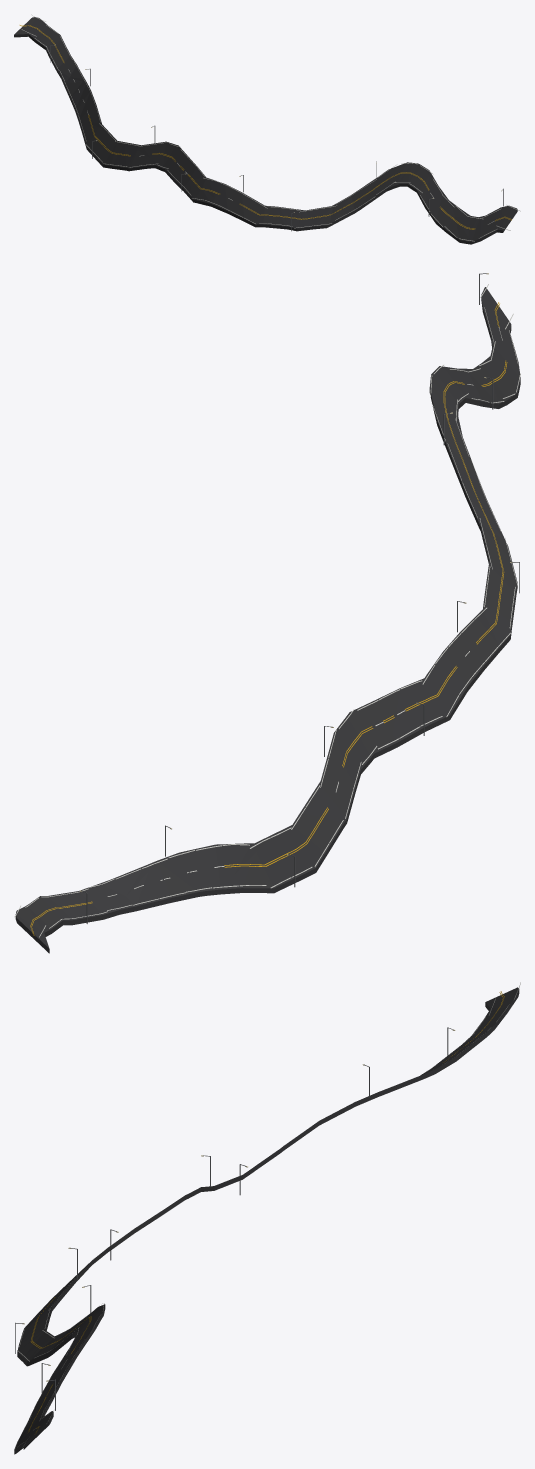
The picture shows the model from 3 angles, top to bottom: view 1: azimuth 30°, elevation 25°; view 2: azimuth 150°, elevation 25°; view 3: azimuth 330°, elevation 25°; orthographic projection. The views are drawn at different scales.
Bounding box in the file's own units: 71.72 × 52.08 × 296.
